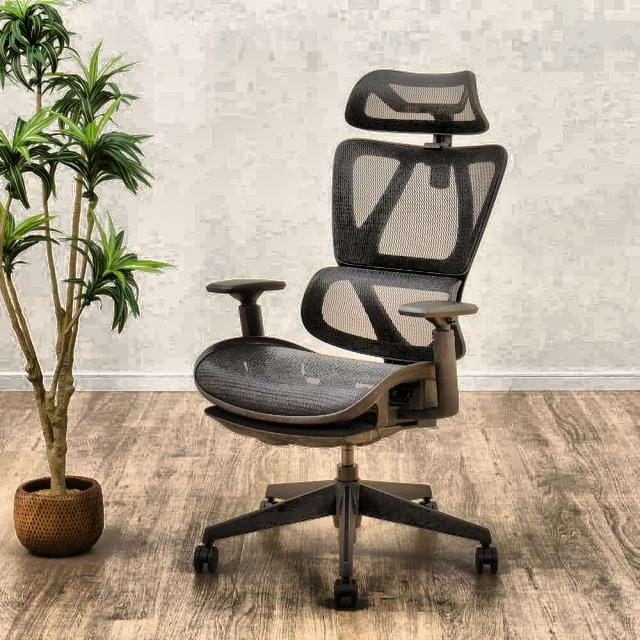cadeira: (185, 63, 512, 610)
